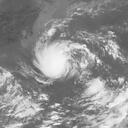cyclone: (33, 43, 73, 79)
